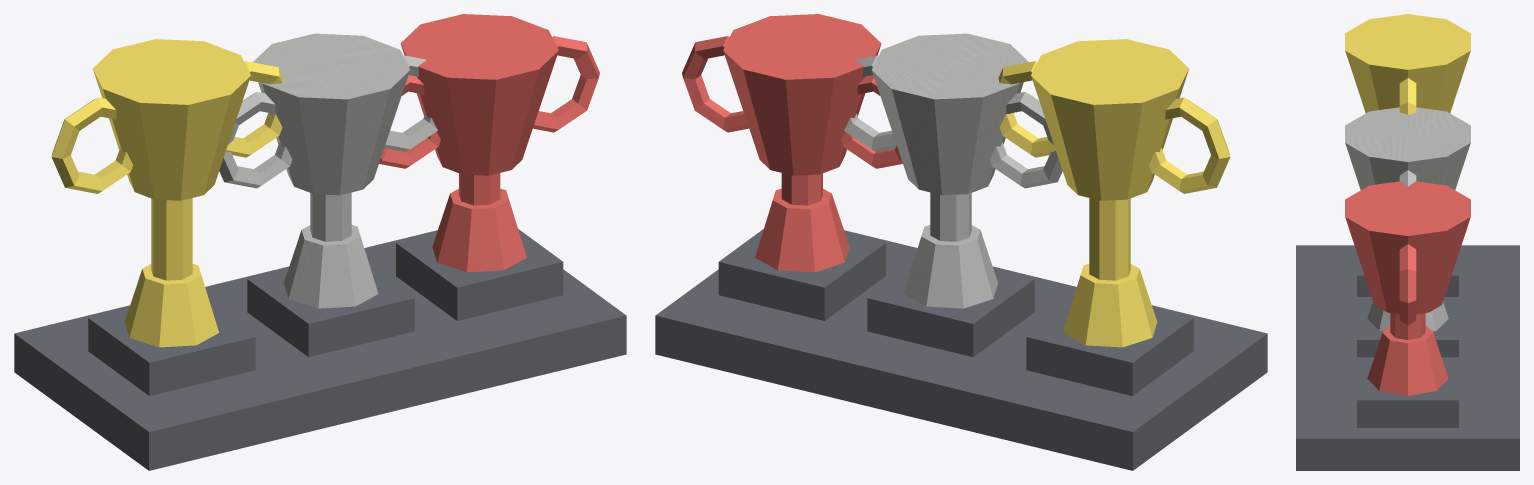
File: go-kart-track-and-pit-lane-trophy-set-7acab0eb.glb
The picture shows the model from 3 angles, left to right: view 1: azimuth 30°, elevation 25°; view 2: azimuth 150°, elevation 25°; view 3: azimuth 270°, elevation 25°; orthographic projection. The views are drawn at different scales.
Visible parts, largest first — view 1: trophy-set-charcoal, trophy-set-canary, trophy-set-concrete, trophy-set-red; view 2: trophy-set-charcoal, trophy-set-canary, trophy-set-concrete, trophy-set-red; view 3: trophy-set-charcoal, trophy-set-red, trophy-set-canary, trophy-set-concrete.
Part boxes in pixels (x1=…): trophy-set-charcoal: x1=14, y1=229, x2=626, y2=470; trophy-set-canary: x1=51, y1=39, x2=283, y2=347; trophy-set-concrete: x1=219, y1=33, x2=437, y2=308; trophy-set-red: x1=379, y1=14, x2=599, y2=272; trophy-set-charcoal: x1=655, y1=229, x2=1267, y2=470; trophy-set-canary: x1=998, y1=39, x2=1230, y2=347; trophy-set-concrete: x1=844, y1=33, x2=1062, y2=308; trophy-set-red: x1=682, y1=14, x2=902, y2=272; trophy-set-charcoal: x1=1296, y1=245, x2=1519, y2=470; trophy-set-red: x1=1345, y1=181, x2=1470, y2=395; trophy-set-canary: x1=1345, y1=14, x2=1470, y2=114; trophy-set-concrete: x1=1345, y1=107, x2=1470, y2=331.
Bounding box in the file's own units: 1.03 × 0.59 × 0.4399.
Materials: 4 (1 with a texture image).
